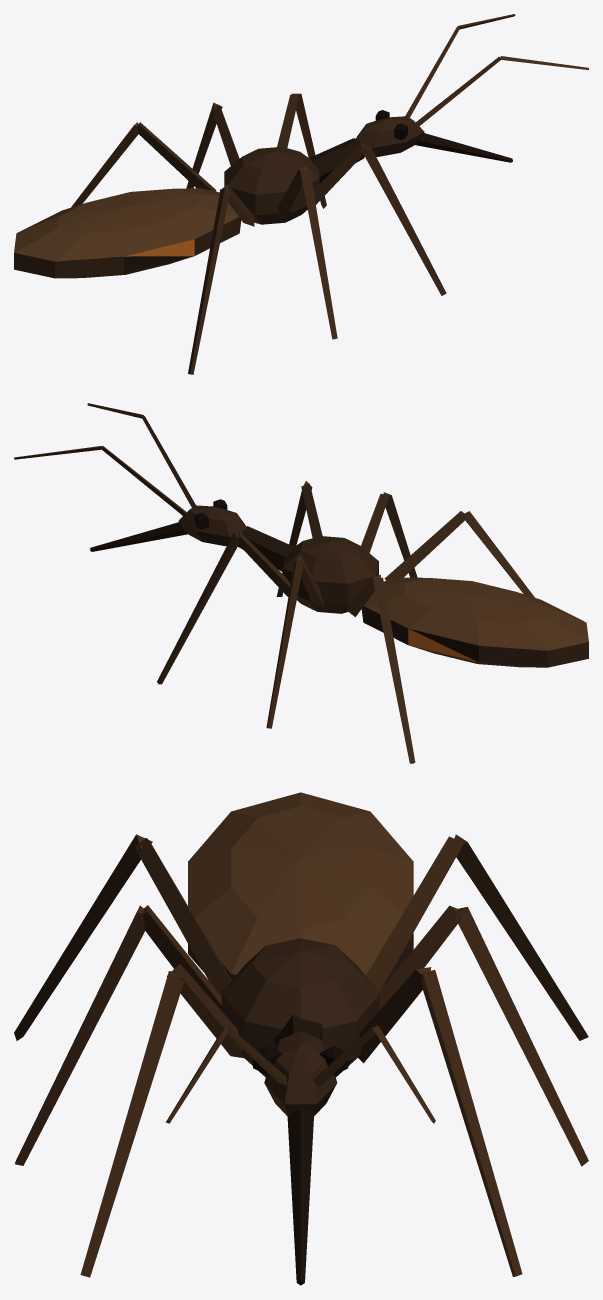
File: creatures-assassin-bug-stabbing.glb
3 renders of one model, top to bottom at view 1: azimuth 30°, elevation 25°; view 2: azimuth 150°, elevation 25°; view 3: azimuth 270°, elevation 25°, orthographic. The views are drawn at different scales.
Bounding box in the file's own units: 13.47 × 4.49 × 6.91.
